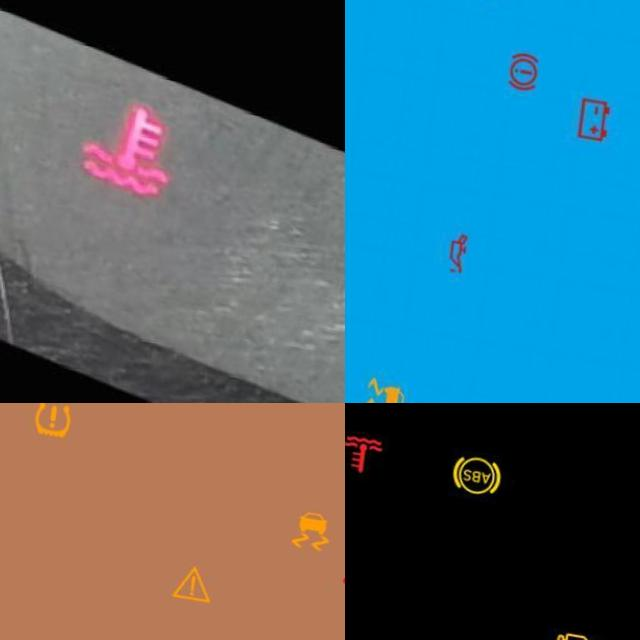Engine cooling system: (73, 68, 205, 206)
High Engine Coolant Temperature: (345, 418, 391, 476)
